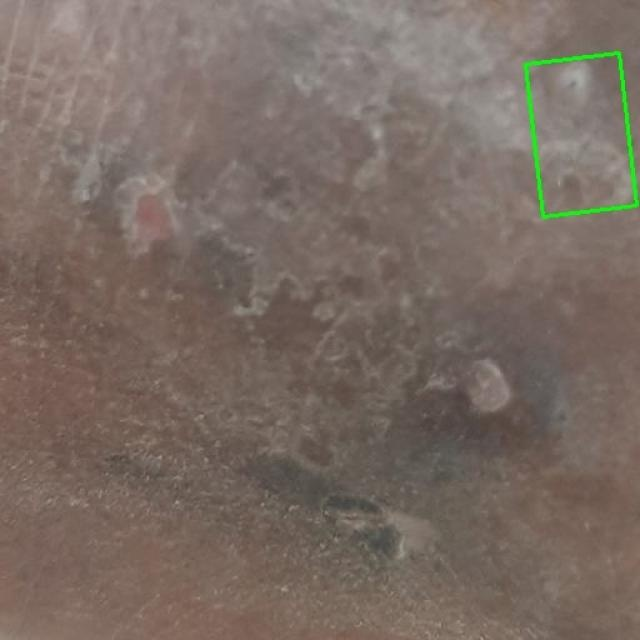Eczema: (525, 53, 637, 217)
